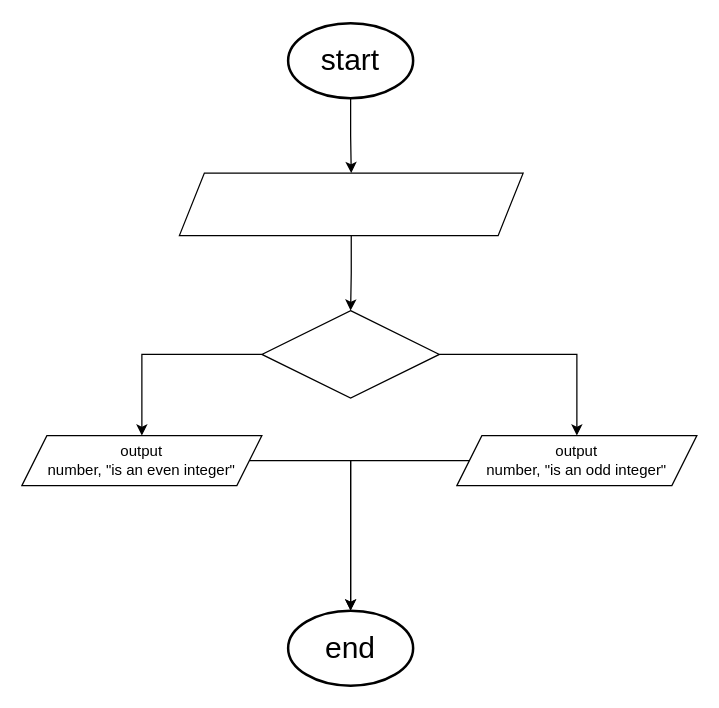
The diagram is 719 pixels wide and 708 high, and some of its shapes have lost their labels. The centre of each missing label's shape, as x and y in pixels:
if (number % 2 == 0: (350,353)
input number: (350,204)
